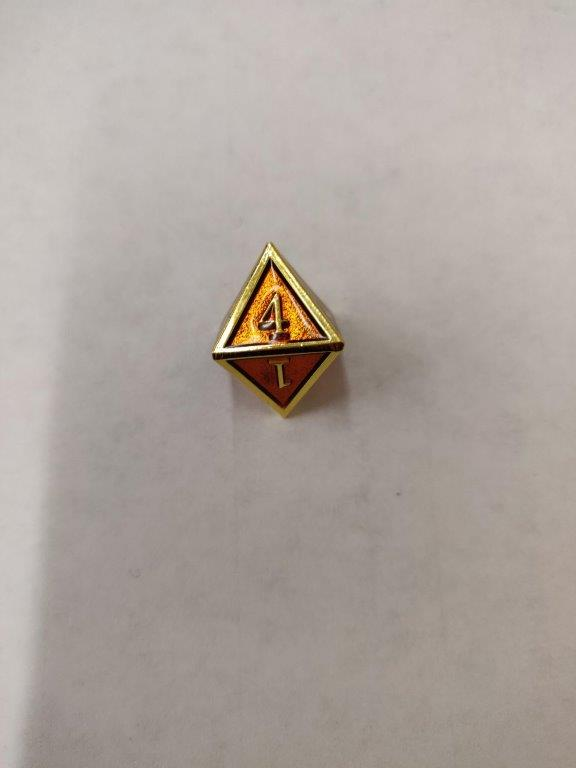d8-4: (207, 239, 349, 422)
